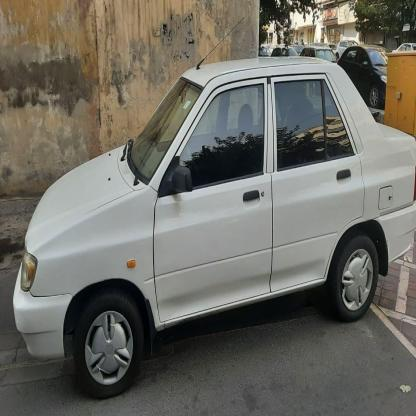Car: (0, 60, 416, 393), (340, 35, 397, 114), (298, 40, 338, 61), (391, 28, 416, 60), (269, 46, 303, 58)
